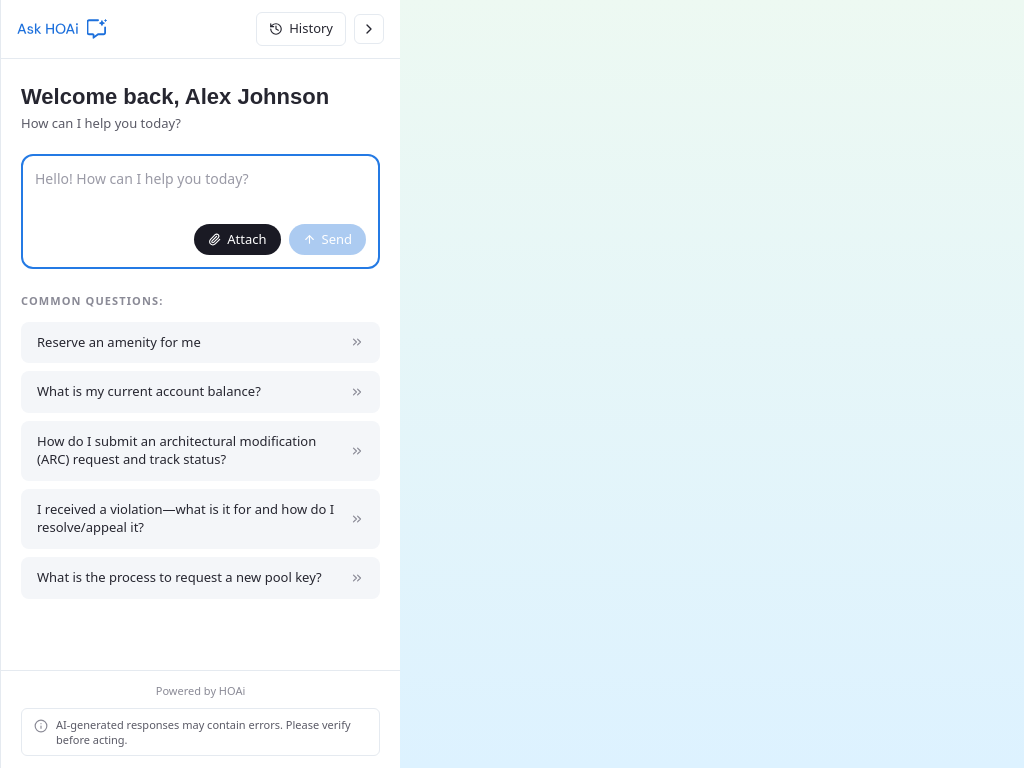
Scenario: AskHoaiPanel conversation › the reader gets the current day, the newest active widget, and its result is applied (R10)
Step 1. Click the button "Reserve an amenity for me" → click(200, 342), box [21,322,380,363]
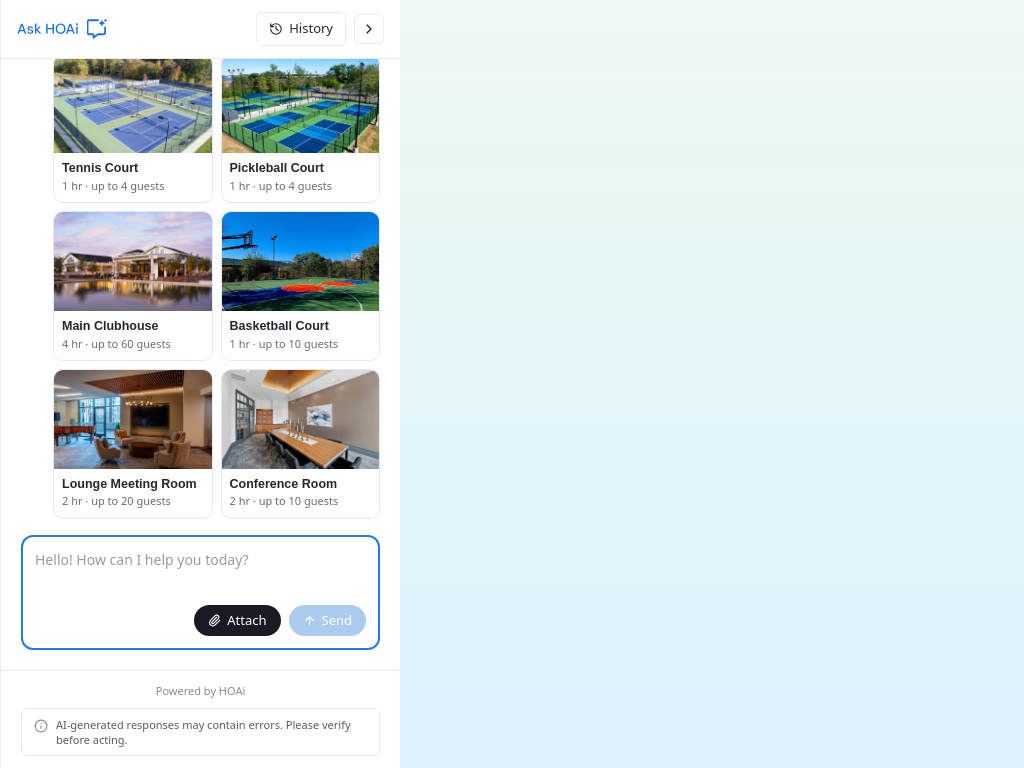
Step 2. Type "tennis" into the text box → (200, 570), box [35,549,366,591]
Then press Enter
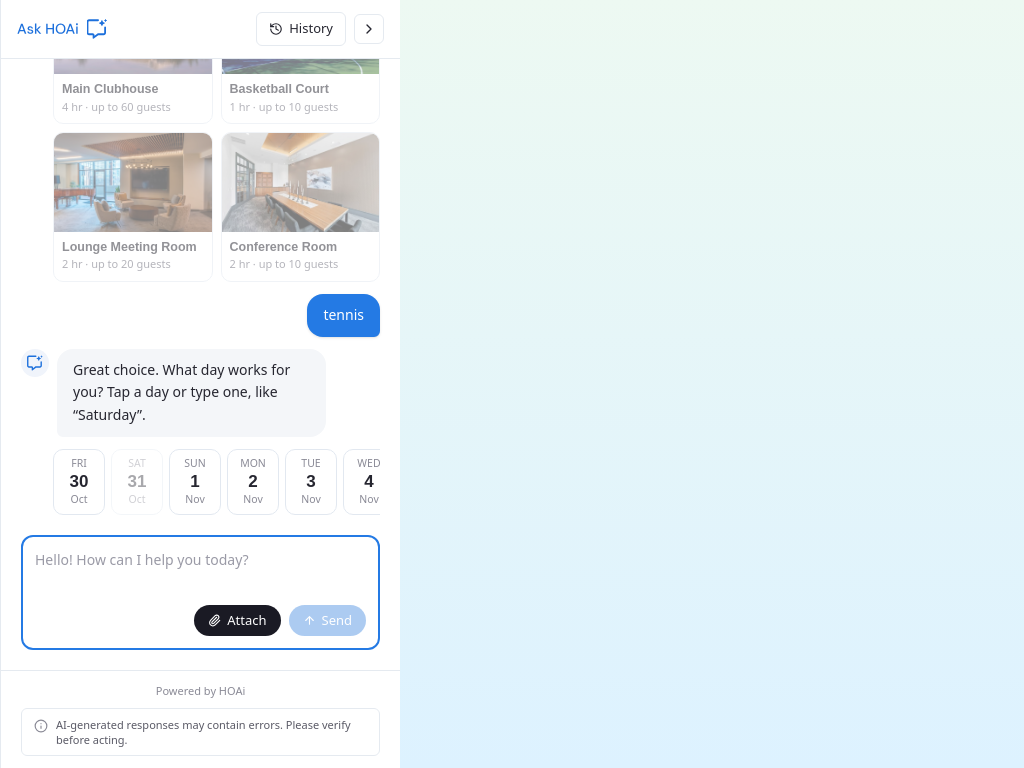
Now the text "Great choice" is shown, box [73,360,294,424]
Now the button with aria-label "Friday, Oct 30" is shown, box [53,449,105,515]
